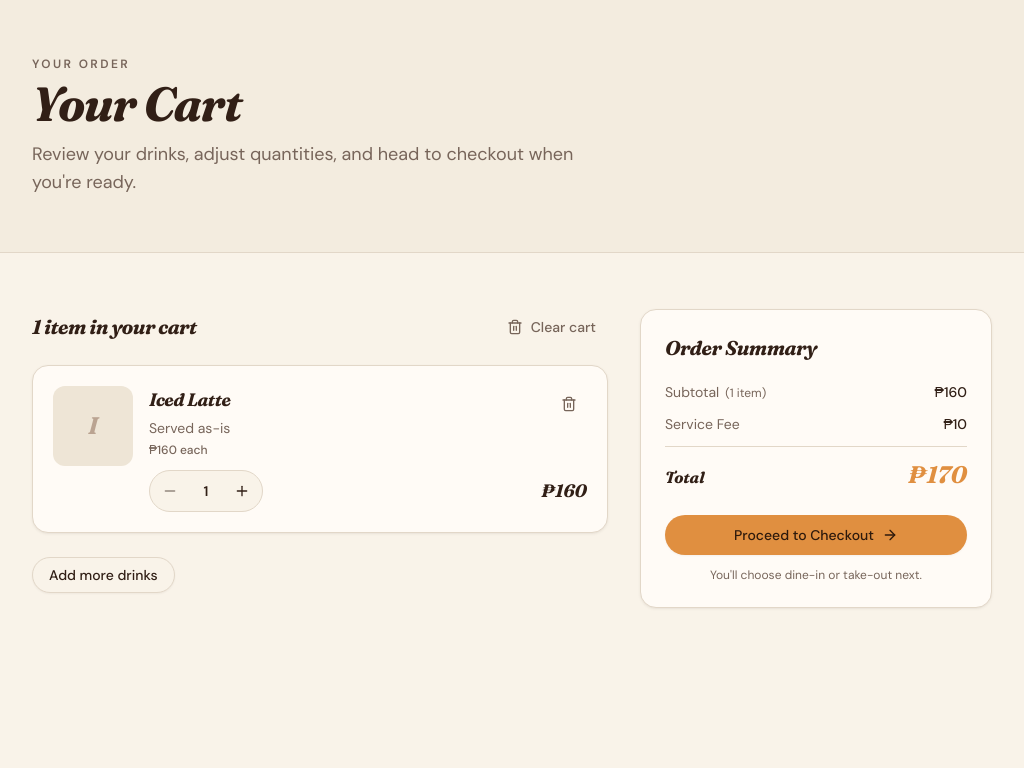
Test: CartPage › removes a line only after the confirmation dialog is accepted
The image size is (1024, 768).
Click the button with test id "cart.remove_button.1".
click(569, 404)  # box x1=551 y1=386 x2=587 y2=422
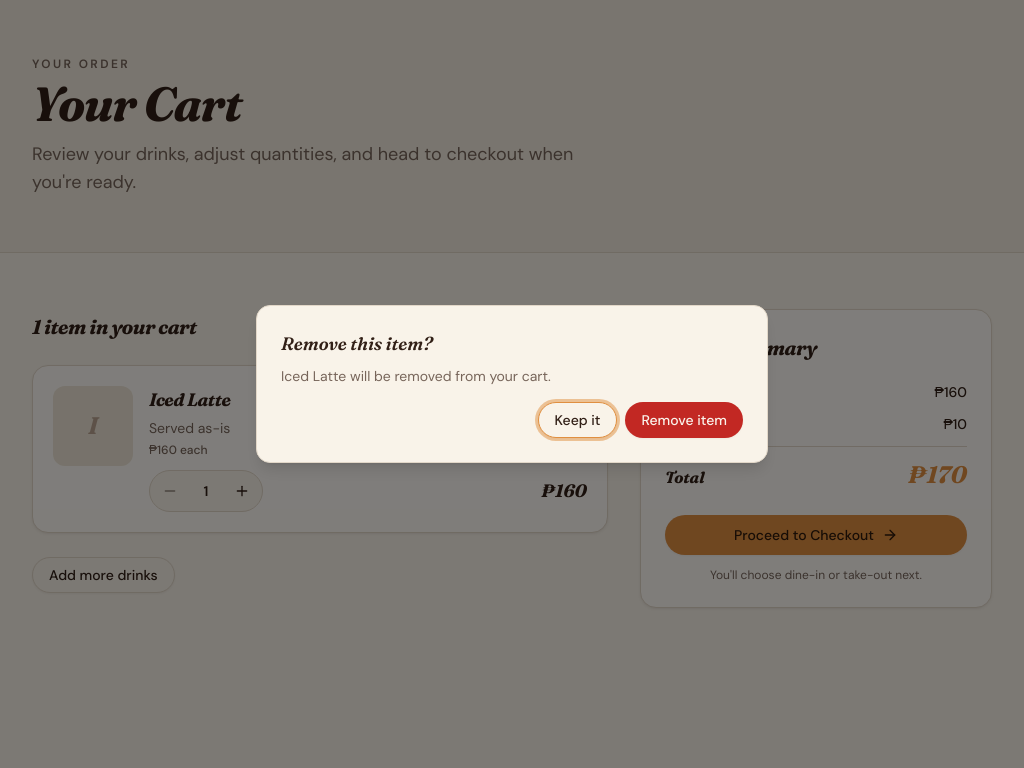
Click the button with test id "cart.remove_confirm_button".
click(684, 420)  # box x1=625 y1=402 x2=743 y2=438
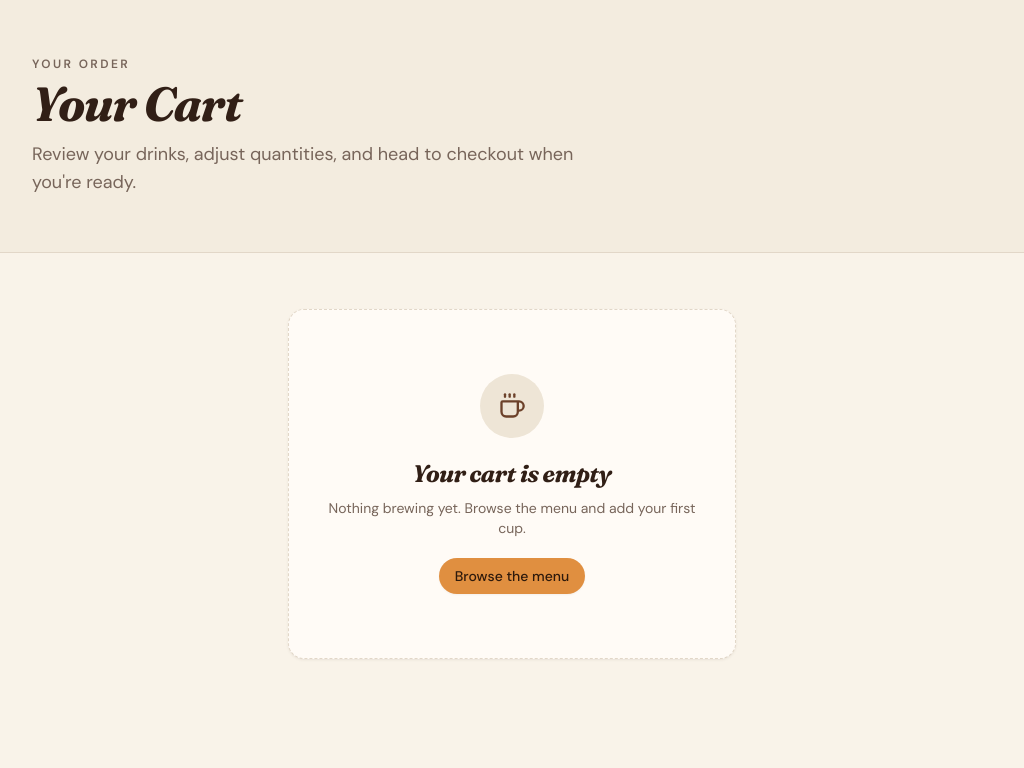
Expected: the element with test id "cart.empty_state" is shown, x1=288 y1=309 x2=736 y2=659
